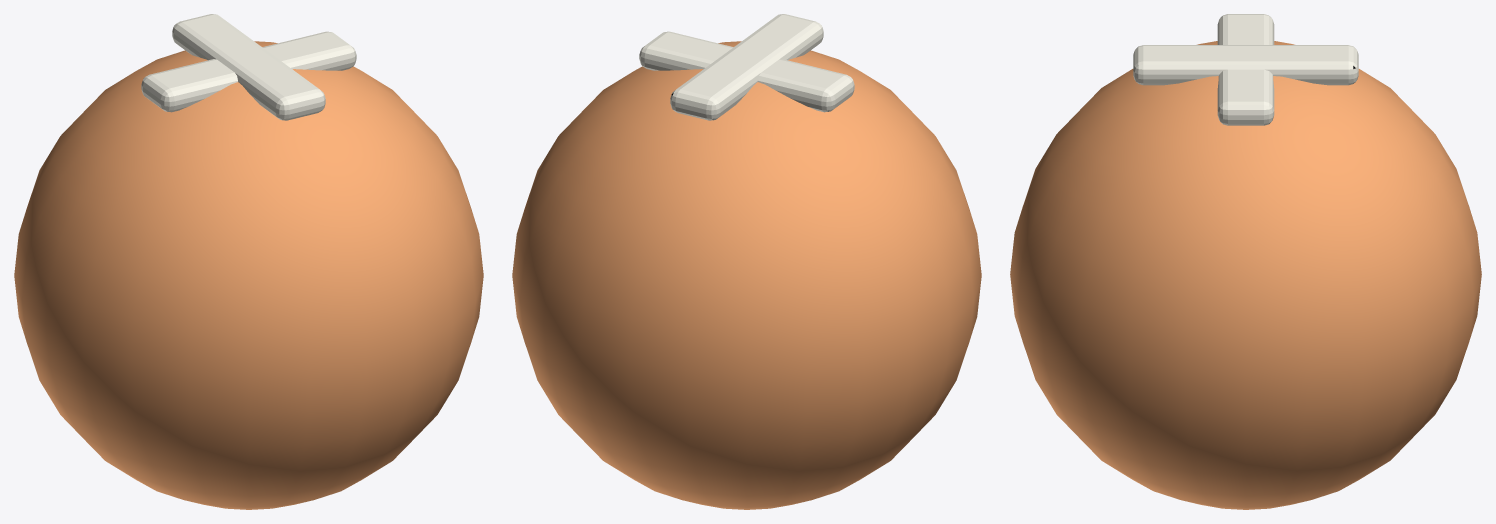
Rendered from positron.glb.
3 views of the same model, side by side, from view 1: azimuth 30°, elevation 25°; view 2: azimuth 150°, elevation 25°; view 3: azimuth 270°, elevation 25° (orthographic).
Visible parts, largest first — view 1: positron_textured_mesh; view 2: positron_textured_mesh; view 3: positron_textured_mesh.
Boxes of the visible parts, <box> form: positron_textured_mesh: <box>14,14,483,509</box>; positron_textured_mesh: <box>512,14,981,509</box>; positron_textured_mesh: <box>1010,14,1481,509</box>.
Size of the model in its own units: 0.92 by 0.935 by 0.92.
Materials: 1 (1 with a texture image).
